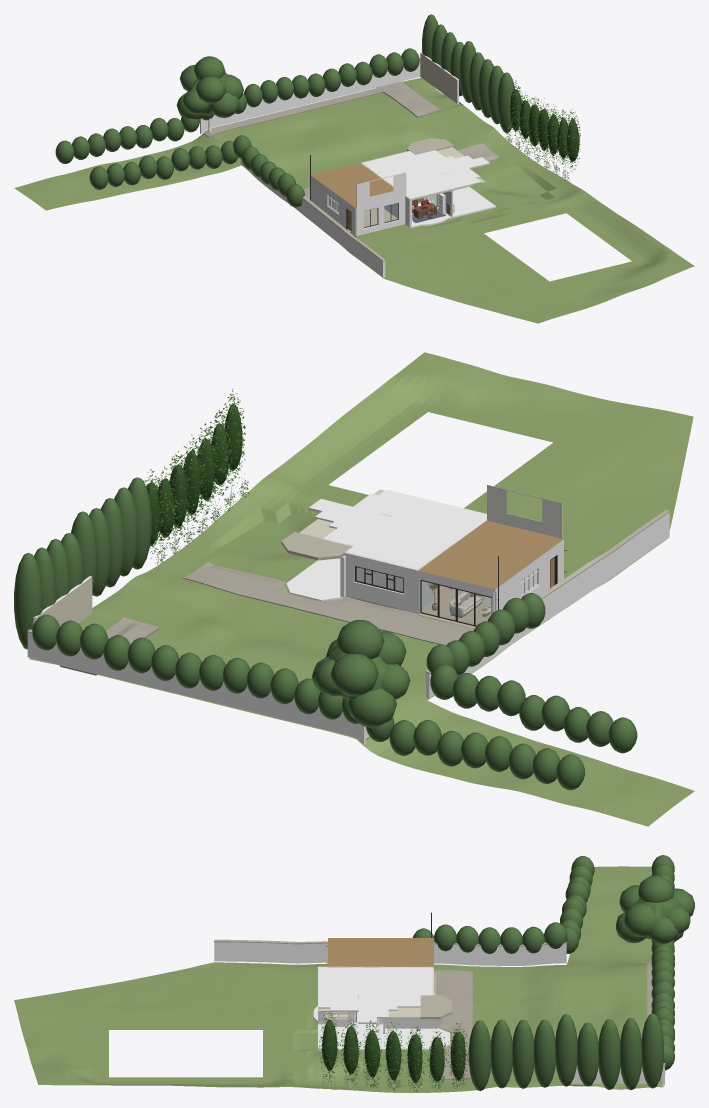
3 renders of one model, top to bottom at view 1: azimuth 30°, elevation 25°; view 2: azimuth 150°, elevation 25°; view 3: azimuth 270°, elevation 25°, orthographic. The views are drawn at different scales.
Visible parts, largest first — view 1: Proposal revision | Plot ground - title plan approximate, Proposal | Boundary leaf detail East, Main rear garden niche wall, Proposal | Side wing first floor, Proposal | Side wing front brick facing, Proposal revision | Western house boundary wall, Rear wall garden path, Outbuilding path - faces lawn, Proposal revision | Bedroom 3 | floor, Proposal revision | Landing | floor, Boundary hedge.008, Proposal revision | Bedroom 4 | floor (+10 smaller); view 2: Proposal revision | Plot ground - title plan approximate, Proposal | Boundary leaf detail East, Proposal revision | Rear terrace paving, Proposal | Side wing first floor, Main rear garden niche wall, Proposal revision | Western house boundary wall, Proposal revision | Bedroom 3 | floor, Proposal revision | Landing | floor, Proposal | Side wing front brick facing, Boundary hedge, Proposal revision | Bedroom 4 | floor, Dining room | floor (+49 smaller); view 3: Proposal revision | Plot ground - title plan approximate, Proposal | Boundary leaf detail East, Proposal revision | Western house boundary wall, Proposal | Side wing first floor, Proposal revision | Rear terrace paving, Boundary hedge, Boundary hedge.004, Boundary hedge.001, Boundary hedge.002, Boundary hedge.008, Proposal revision | Landing | floor, Proposal revision | Bedroom 3 | floor (+24 smaller).
Part boxes in pixels (x1=…): Proposal revision | Plot ground - title plan approximate: x1=14, y1=77, x2=694, y2=323; Proposal | Boundary leaf detail East: x1=505, y1=80, x2=580, y2=181; Main rear garden niche wall: x1=200, y1=61, x2=420, y2=133; Proposal | Side wing first floor: x1=311, y1=162, x2=393, y2=209; Proposal | Side wing front brick facing: x1=356, y1=172, x2=406, y2=235; Proposal revision | Western house boundary wall: x1=240, y1=158, x2=385, y2=277; Rear wall garden path: x1=203, y1=87, x2=383, y2=137; Outbuilding path - faces lawn: x1=376, y1=81, x2=441, y2=117; Proposal revision | Bedroom 3 | floor: x1=362, y1=151, x2=433, y2=175; Proposal revision | Landing | floor: x1=422, y1=155, x2=489, y2=186; Boundary hedge.008: x1=497, y1=72, x2=514, y2=132; Proposal revision | Bedroom 4 | floor: x1=406, y1=174, x2=451, y2=199; Proposal revision | Plot ground - title plan approximate: x1=29, y1=352, x2=694, y2=826; Proposal | Boundary leaf detail East: x1=143, y1=389, x2=249, y2=564; Proposal revision | Rear terrace paving: x1=183, y1=562, x2=474, y2=645; Proposal | Side wing first floor: x1=418, y1=520, x2=563, y2=592; Main rear garden niche wall: x1=27, y1=632, x2=365, y2=744; Proposal revision | Western house boundary wall: x1=426, y1=512, x2=669, y2=698; Proposal revision | Bedroom 3 | floor: x1=346, y1=525, x2=443, y2=569; Proposal revision | Landing | floor: x1=308, y1=489, x2=410, y2=529; Proposal | Side wing front brick facing: x1=487, y1=485, x2=562, y2=538; Boundary hedge: x1=14, y1=552, x2=42, y2=649; Proposal revision | Bedroom 4 | floor: x1=393, y1=500, x2=486, y2=534; Dining room | floor: x1=286, y1=559, x2=343, y2=601; Proposal revision | Plot ground - title plan approximate: x1=14, y1=866, x2=663, y2=1092; Proposal | Boundary leaf detail East: x1=318, y1=1011, x2=468, y2=1092; Proposal revision | Western house boundary wall: x1=214, y1=942, x2=566, y2=965; Proposal | Side wing first floor: x1=328, y1=938, x2=433, y2=967; Proposal revision | Rear terrace paving: x1=433, y1=970, x2=472, y2=1079; Boundary hedge: x1=641, y1=1013, x2=663, y2=1088; Boundary hedge.004: x1=555, y1=1014, x2=577, y2=1086; Boundary hedge.001: x1=620, y1=1017, x2=641, y2=1089; Boundary hedge.002: x1=598, y1=1019, x2=620, y2=1089; Boundary hedge.008: x1=468, y1=1020, x2=490, y2=1090; Proposal revision | Landing | floor: x1=318, y1=988, x2=388, y2=1023; Proposal revision | Bedroom 3 | floor: x1=377, y1=967, x2=432, y2=994.
Bounding box in the file's own units: 44.11 × 8.49 × 52.36.
Materials: 73 (5 with a texture image).
